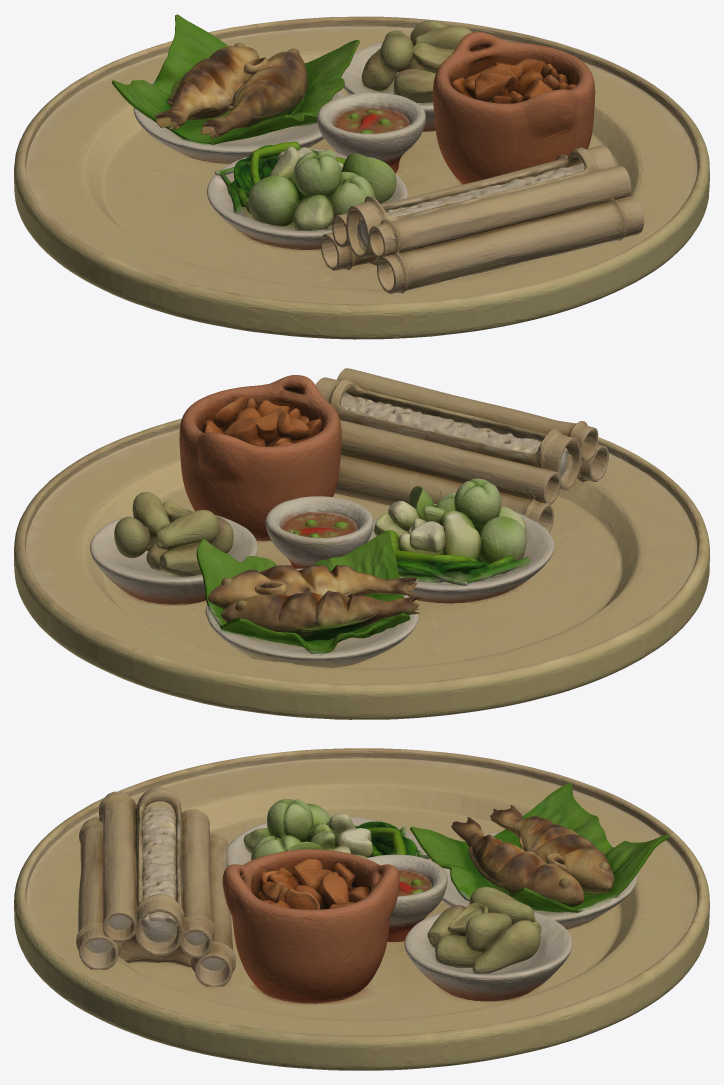
The model's file is vanlang4.glb.
The picture shows the model from 3 angles, top to bottom: view 1: azimuth 30°, elevation 25°; view 2: azimuth 150°, elevation 25°; view 3: azimuth 270°, elevation 25°; orthographic projection.
Parts seen in each view (by area): view 1: tripo_node_686715c6-aba8-498d-9daa-8dbac0dcd8af; view 2: tripo_node_686715c6-aba8-498d-9daa-8dbac0dcd8af; view 3: tripo_node_686715c6-aba8-498d-9daa-8dbac0dcd8af.
Boxes of the visible parts, <box> form: tripo_node_686715c6-aba8-498d-9daa-8dbac0dcd8af: <box>14,14,709,339</box>; tripo_node_686715c6-aba8-498d-9daa-8dbac0dcd8af: <box>14,368,709,719</box>; tripo_node_686715c6-aba8-498d-9daa-8dbac0dcd8af: <box>14,748,709,1070</box>.
Size of the model in its own units: 1 by 0.1979 by 0.999.
1 material, 1 textured.
